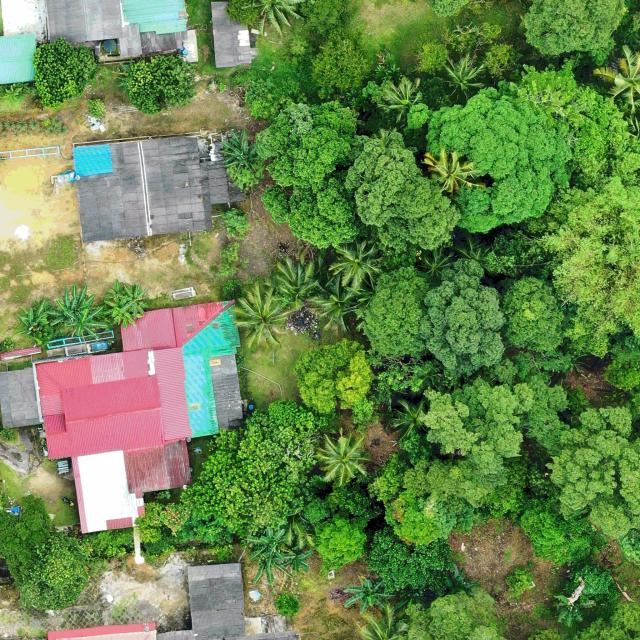Tree: (427, 86, 572, 237), (190, 396, 327, 532), (542, 173, 640, 342), (344, 125, 464, 252), (515, 64, 640, 185), (544, 404, 640, 537), (418, 258, 506, 379), (255, 98, 362, 185), (422, 377, 534, 458), (368, 451, 458, 547), (260, 174, 358, 249), (521, 0, 627, 63), (363, 264, 435, 356), (520, 496, 611, 568), (294, 336, 374, 416), (17, 532, 91, 612), (500, 274, 568, 350), (32, 35, 98, 110), (228, 282, 294, 352), (125, 52, 193, 116), (428, 586, 506, 640), (242, 528, 313, 586), (50, 280, 107, 344), (364, 526, 416, 595), (314, 427, 373, 487), (269, 253, 325, 316), (311, 37, 370, 94), (590, 44, 640, 110), (312, 274, 366, 334), (316, 514, 368, 575), (328, 238, 386, 290), (422, 146, 479, 194), (379, 76, 430, 129), (439, 52, 489, 100), (102, 281, 148, 330), (218, 128, 262, 172), (342, 574, 390, 613), (391, 397, 434, 437), (14, 300, 48, 338), (502, 564, 536, 600)
